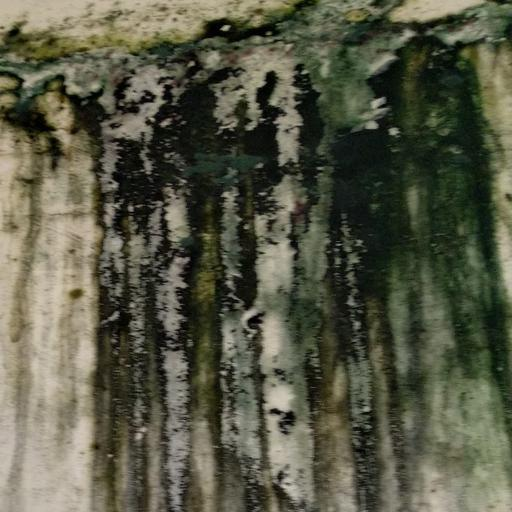algae: (8, 10, 512, 512)
